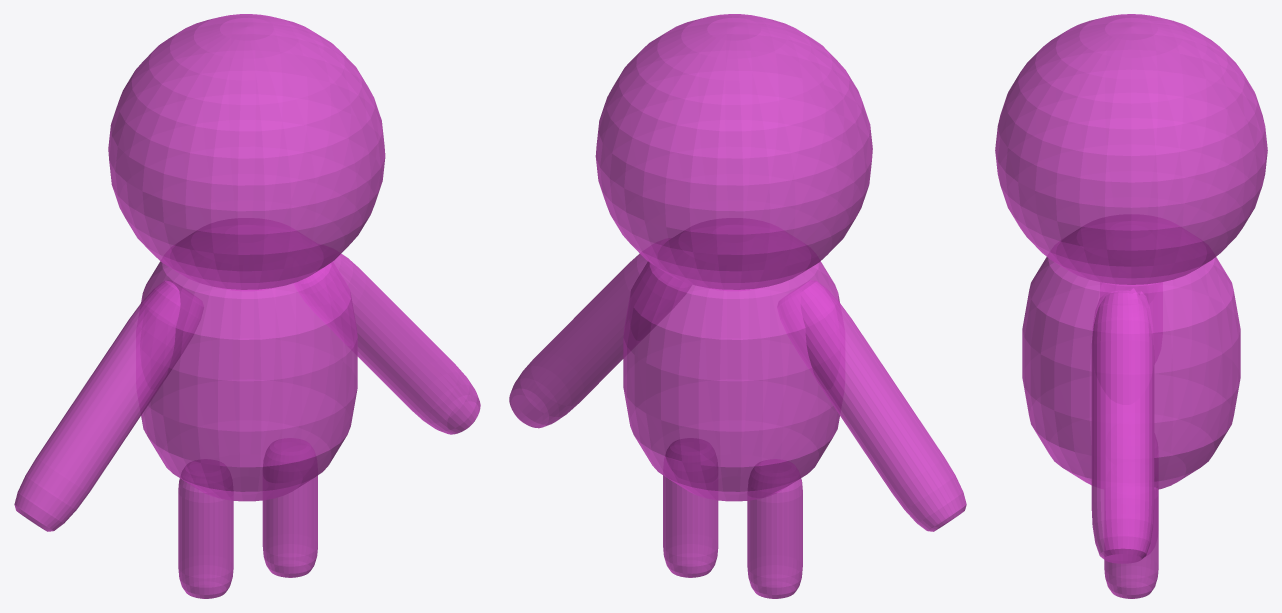
3 views of the same model, side by side, from view 1: azimuth 30°, elevation 25°; view 2: azimuth 150°, elevation 25°; view 3: azimuth 270°, elevation 25° (orthographic).
Visible parts, largest first — view 1: Head, Body, HandRight, HandLeft, LegRight, LegLeft; view 2: Head, Body, HandRight, HandLeft, LegRight, LegLeft; view 3: Head, Body, HandLeft, LegLeft, HandRight.
Part boxes in pixels (x1,y1,x2,y2): Head: (108,14,385,290); Body: (140,218,357,501); HandRight: (14,280,203,531); HandLeft: (294,253,480,434); LegRight: (178,459,233,598); LegLeft: (262,438,317,577); Head: (595,14,872,290); Body: (623,218,840,501); HandRight: (777,280,966,531); HandLeft: (509,253,691,428); LegRight: (747,459,802,598); LegLeft: (663,438,718,577); Head: (995,14,1267,285); Body: (1022,214,1240,489); HandLeft: (1091,288,1154,563); LegLeft: (1104,473,1158,598); HandRight: (1103,283,1159,303).
Bounding box in the file's own units: 377 × 441 × 200.
